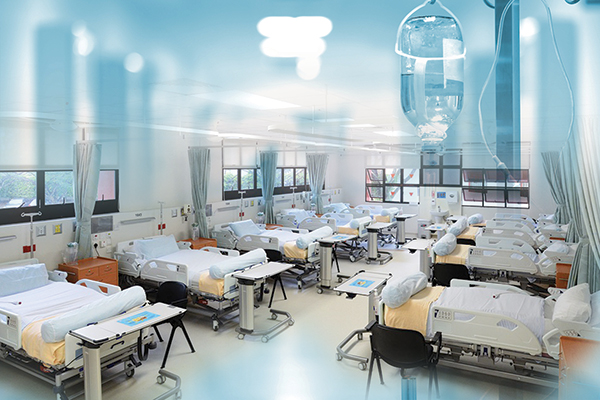trolley_bed: (334, 268, 595, 385), (1, 255, 162, 399), (101, 233, 300, 341), (401, 233, 589, 303), (207, 215, 349, 295), (264, 207, 383, 264), (433, 220, 568, 261), (323, 199, 403, 242), (456, 211, 572, 239)
